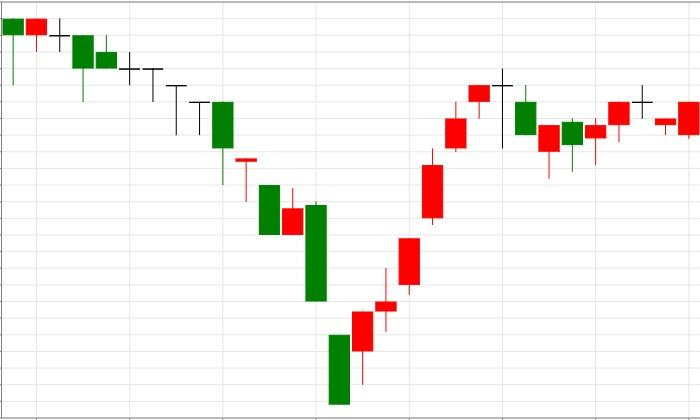evening_star_fall: (352, 68, 537, 384)
